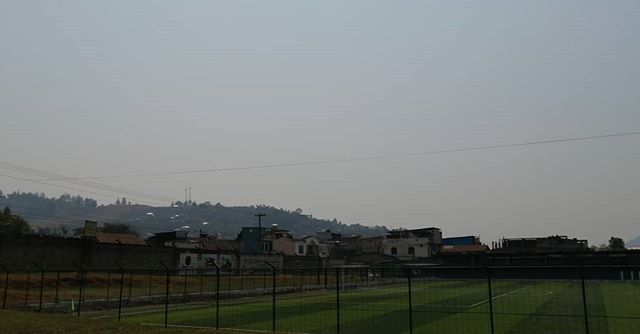building: (382, 225, 439, 261), (260, 229, 308, 258)
sky: (1, 1, 640, 201)
